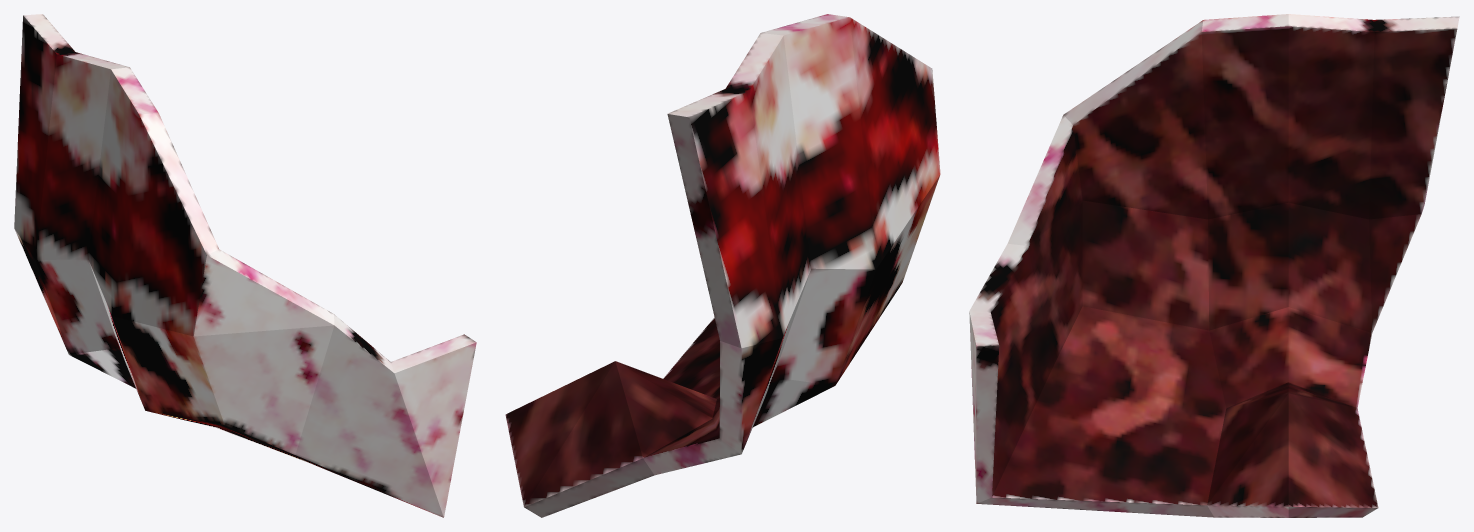
The model's file is TornSkull1.fbx.
3 renders of one model, left to right at view 1: azimuth 30°, elevation 25°; view 2: azimuth 150°, elevation 25°; view 3: azimuth 270°, elevation 25°, orthographic. The views are drawn at different scales.
Visible parts, largest first — view 1: TornSkull1; view 2: TornSkull1; view 3: TornSkull1.
Part boxes in pixels (x1,y1,x2,y2): TornSkull1: (14, 14, 476, 517); TornSkull1: (505, 14, 940, 517); TornSkull1: (969, 14, 1459, 517).
Size of the model in its own units: 179 by 263 by 277.
